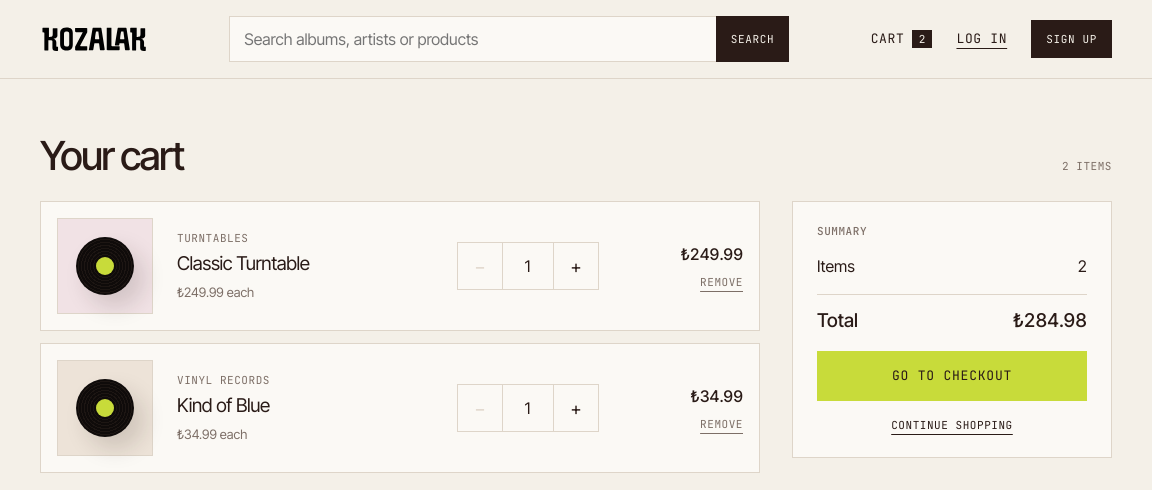
CartPage (SHOP-113) › removes a product (SHOP-112)
Expected: the link "Kind of Blue" is shown, [177,394,270,417]
Click the button with aria-label "Remove Kind of Blue" at (722, 424), box [700,416,743,432]
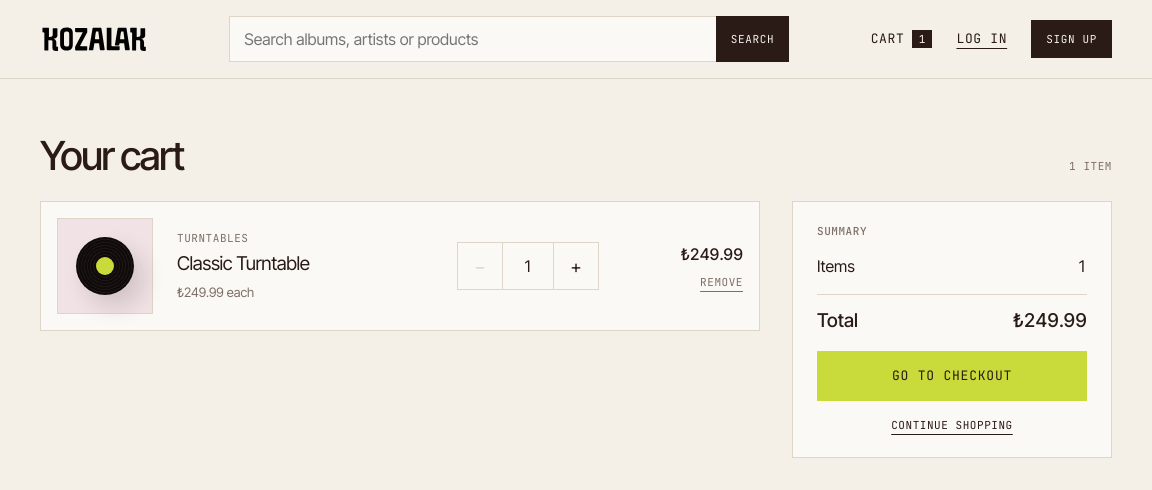
Now the link "Kind of Blue" is gone
